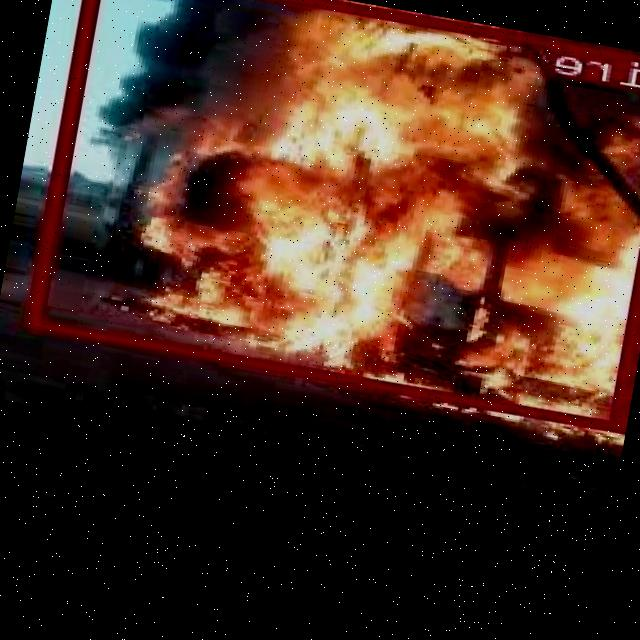fire: (31, 0, 640, 429)
